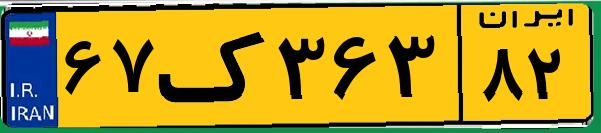2: (525, 38, 570, 115)
3: (270, 28, 330, 110), (385, 28, 445, 110)
6: (330, 28, 385, 110), (57, 26, 110, 100)
7: (110, 28, 158, 98)
8: (475, 38, 525, 113)
ک: (158, 12, 270, 120)
